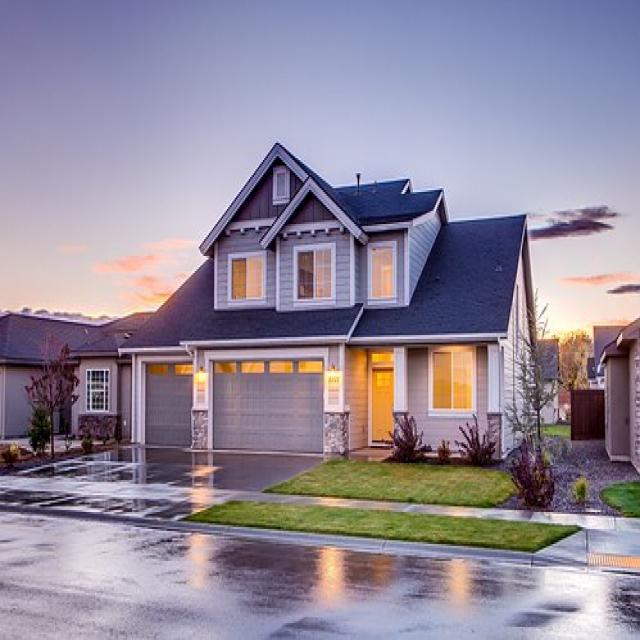Normal_building: (113, 135, 550, 472)
